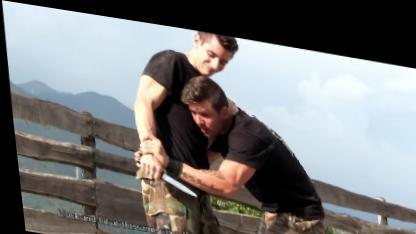knife: (132, 149, 196, 194)
